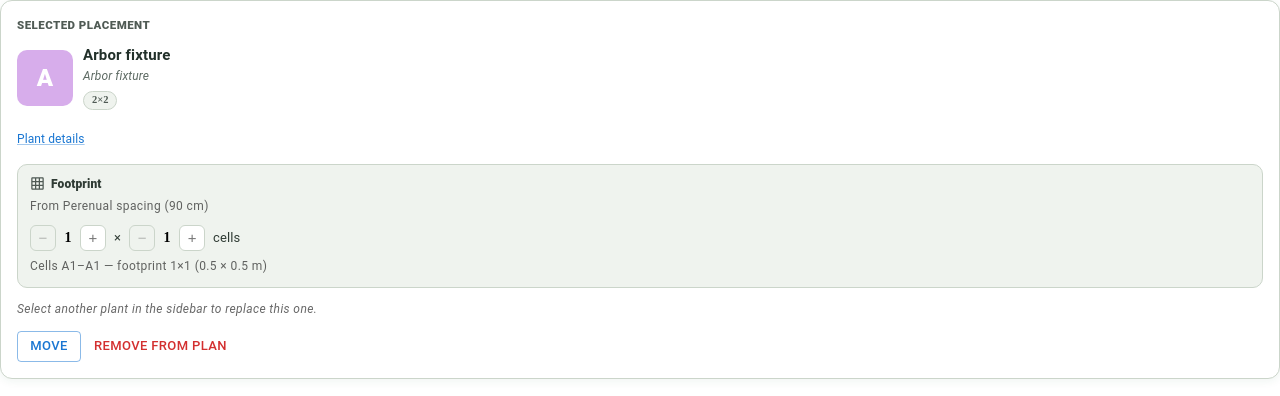
PlacementDetailPanel footprint section (SMA-193 lot 3) › a fitting step applies live: the placement spans change and the line follows
Click the button named "Increase rows". click: [93, 238]
box: [80, 225, 106, 251]
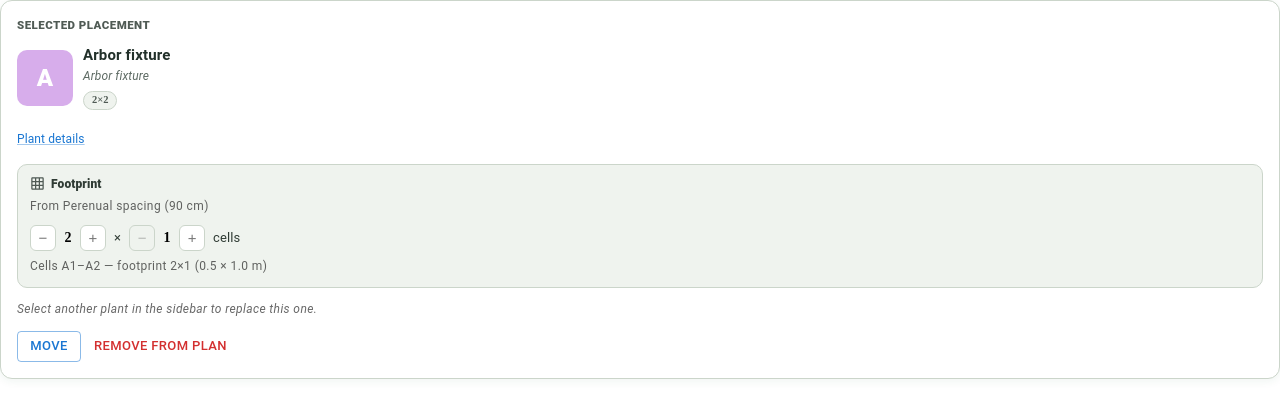
Now the text "Cells A1–A2 — footprint 2×1 (0.5 × 1.0 m)" is shown, box [30, 259, 267, 273]
